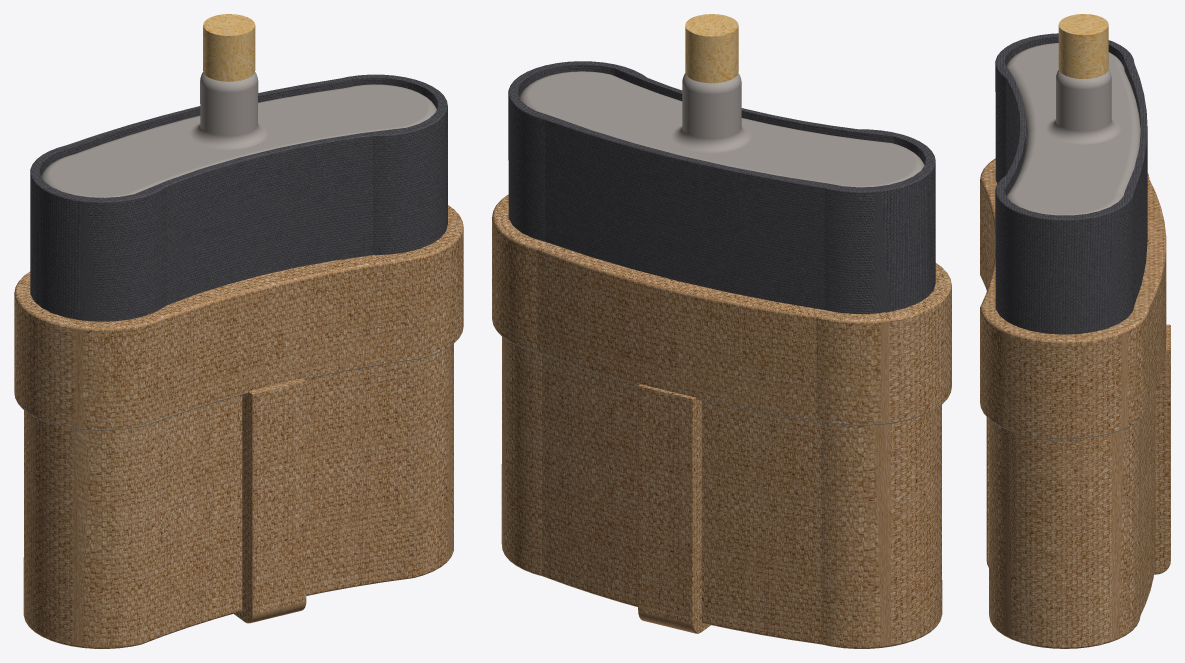
File: Water_Bottle.obj
3 renders of one model, left to right at view 1: azimuth 30°, elevation 25°; view 2: azimuth 150°, elevation 25°; view 3: azimuth 270°, elevation 25°, orthographic. The views are drawn at different scales.
Parts seen in each view (by area): view 1: Root|water_bottle_(Default)|Default|burlap, Root|water_bottle_(Default)|Default|grey_cotton, Root|water_bottle_(Default)|Default|beige_satin_finish_plastic, Root|water_bottle_(Default)|Default|chipboard; view 2: Root|water_bottle_(Default)|Default|burlap, Root|water_bottle_(Default)|Default|grey_cotton, Root|water_bottle_(Default)|Default|beige_satin_finish_plastic, Root|water_bottle_(Default)|Default|chipboard; view 3: Root|water_bottle_(Default)|Default|burlap, Root|water_bottle_(Default)|Default|grey_cotton, Root|water_bottle_(Default)|Default|beige_satin_finish_plastic, Root|water_bottle_(Default)|Default|chipboard.
Part boxes in pixels (box(x1,y1,x2,y2)): Root|water_bottle_(Default)|Default|burlap: box(14, 205, 463, 648); Root|water_bottle_(Default)|Default|grey_cotton: box(30, 74, 447, 321); Root|water_bottle_(Default)|Default|beige_satin_finish_plastic: box(18, 72, 462, 430); Root|water_bottle_(Default)|Default|chipboard: box(203, 14, 255, 81); Root|water_bottle_(Default)|Default|burlap: box(492, 194, 951, 648); Root|water_bottle_(Default)|Default|grey_cotton: box(508, 61, 935, 313); Root|water_bottle_(Default)|Default|beige_satin_finish_plastic: box(493, 71, 950, 425); Root|water_bottle_(Default)|Default|chipboard: box(685, 14, 738, 83); Root|water_bottle_(Default)|Default|burlap: box(980, 158, 1170, 648); Root|water_bottle_(Default)|Default|grey_cotton: box(995, 33, 1147, 334); Root|water_bottle_(Default)|Default|beige_satin_finish_plastic: box(980, 43, 1152, 439); Root|water_bottle_(Default)|Default|chipboard: box(1058, 14, 1108, 78).
Size of the model in its own units: 0.1558 by 0.196 by 0.063.
